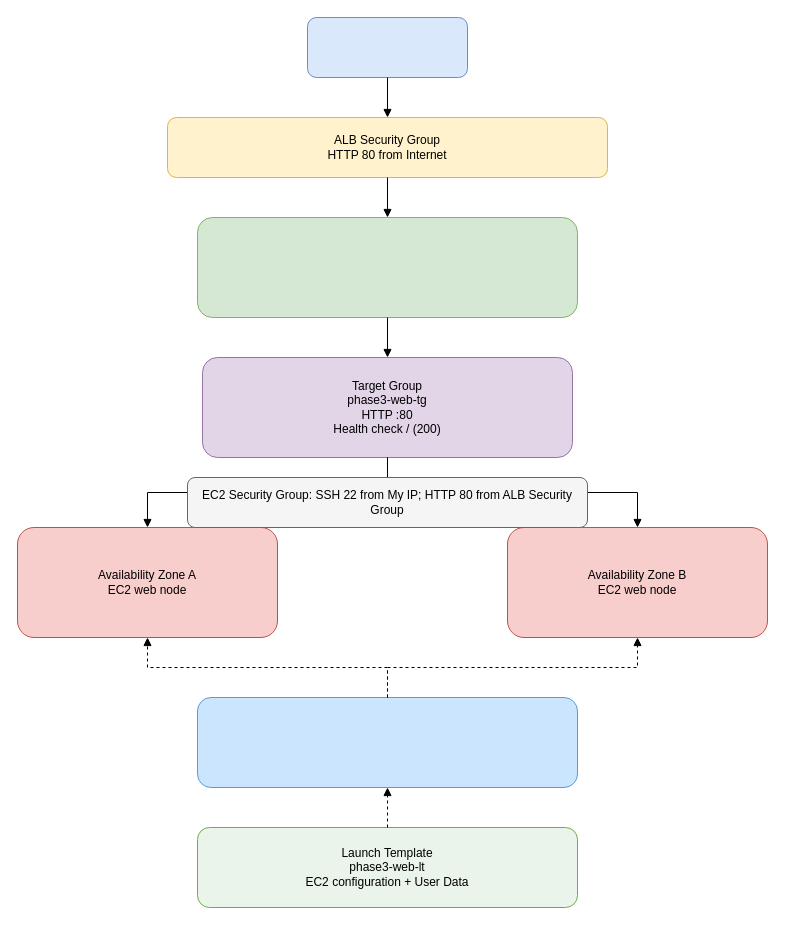
This 785x925 diagram has some shape labels left out. The shapes that lost their labels are listed below. From the top down, each one's box as (x1, y1, x2, y2) in pixels, then its label:
(306, 16, 468, 78): Internet
(196, 216, 578, 318): Application Load Balancer phase3-alb Internet-facing, IPv4 Listener HTTP :80
(196, 696, 578, 788): Auto Scaling Group phase3-web-asg Desired 2 | Min 1 | Max 2
